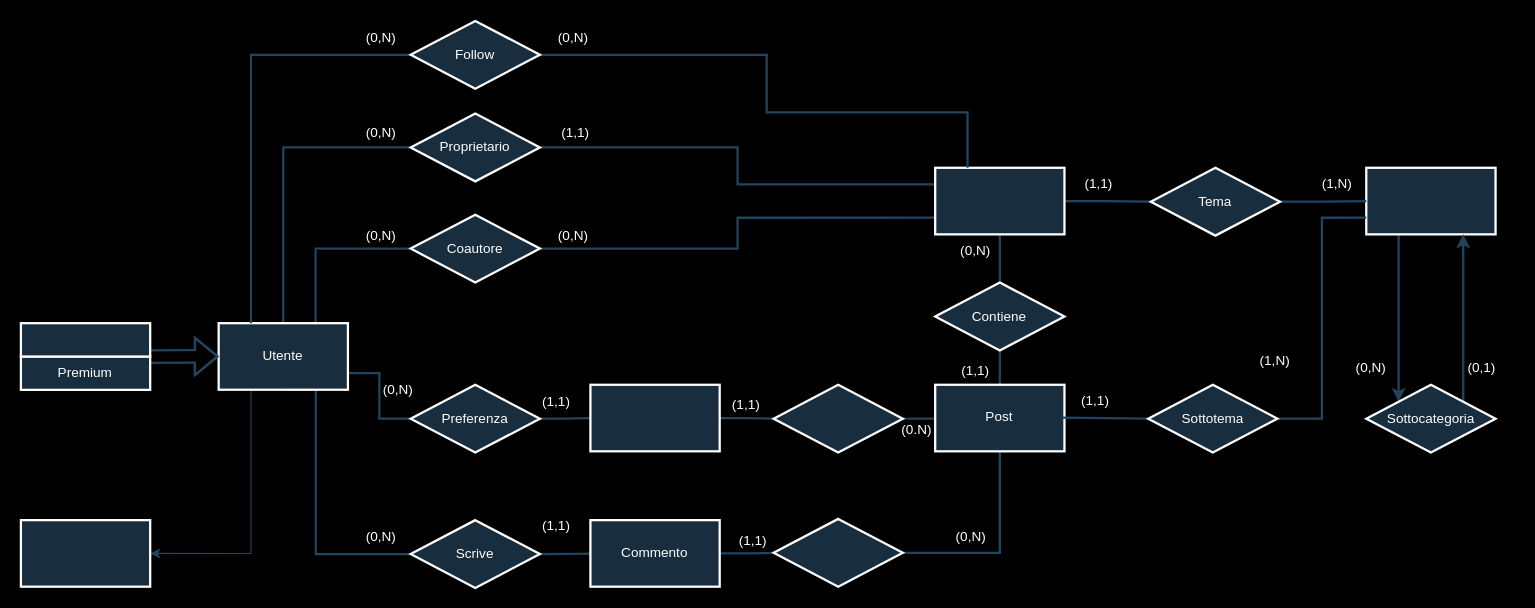
This 1535x608 diagram has some shape labels left out. The box of each missing label's shape, as (x1, y1, x2, y2) in pixels:
Blog: (933, 166, 1065, 235)
Categoria: (1365, 166, 1496, 235)
Feed_1: (772, 383, 903, 453)
Feed_2: (772, 517, 903, 587)
Like: (589, 383, 720, 452)
notifiche: (19, 518, 151, 587)
Standard: (19, 321, 151, 357)
